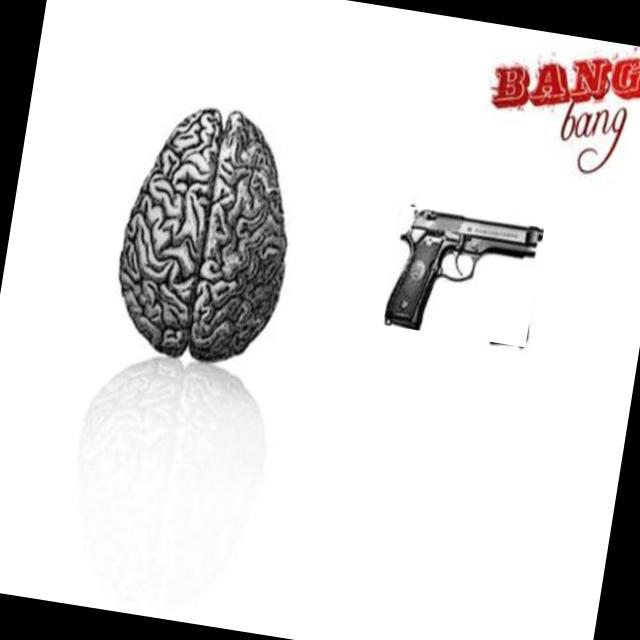Gun: (385, 211, 543, 330)
